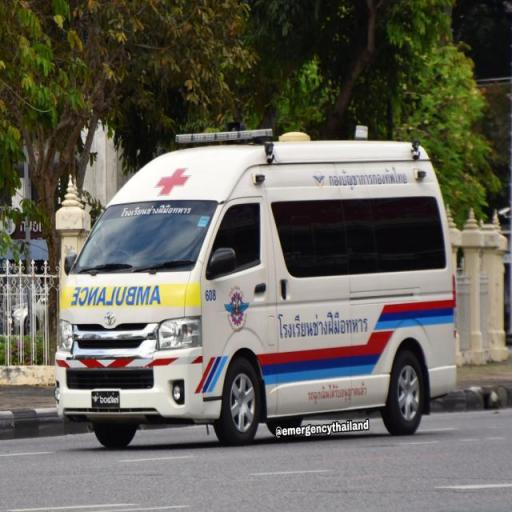Police car: (49, 124, 474, 450)
